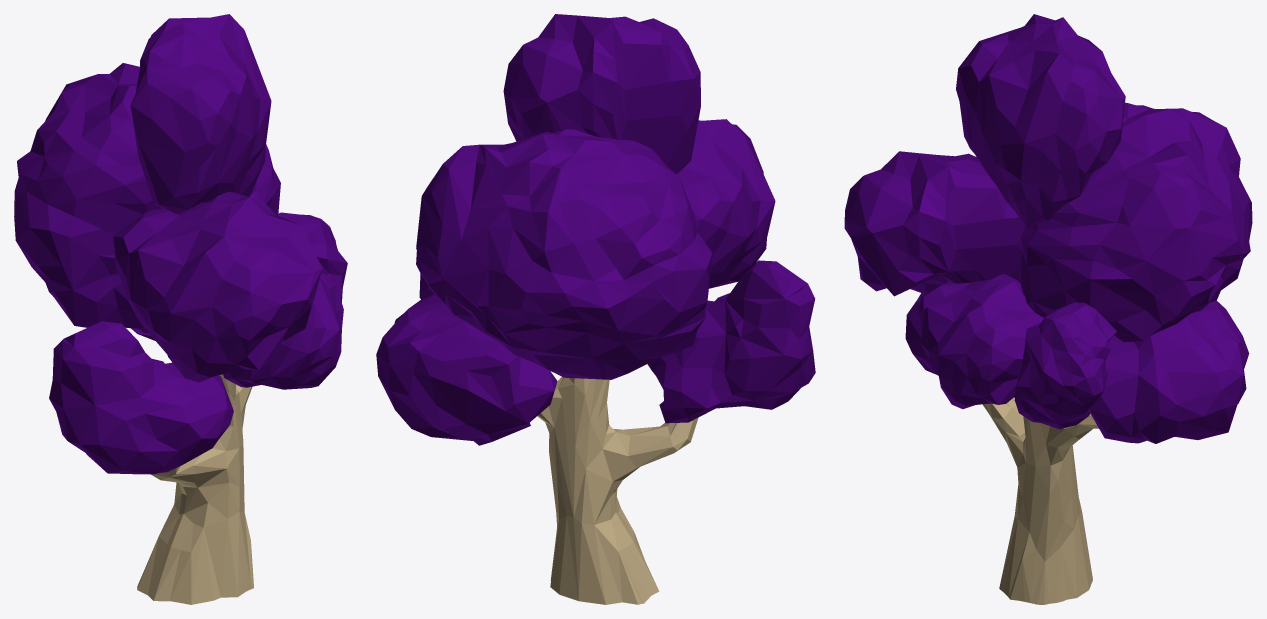
File: 20C_Tree_03.fbx
3 renders of one model, left to right at view 1: azimuth 30°, elevation 25°; view 2: azimuth 150°, elevation 25°; view 3: azimuth 270°, elevation 25°, orthographic. The views are drawn at different scales.
Visible parts, largest first — view 1: 20C_Tree_03; view 2: 20C_Tree_03; view 3: 20C_Tree_03.
Boxes of the visible parts, left/top/right/bottom form: 20C_Tree_03: left=14, top=14, right=347, bottom=604; 20C_Tree_03: left=376, top=14, right=815, bottom=604; 20C_Tree_03: left=844, top=14, right=1252, bottom=604.
Size of the model in its own units: 52.49 by 85.86 by 57.13.
